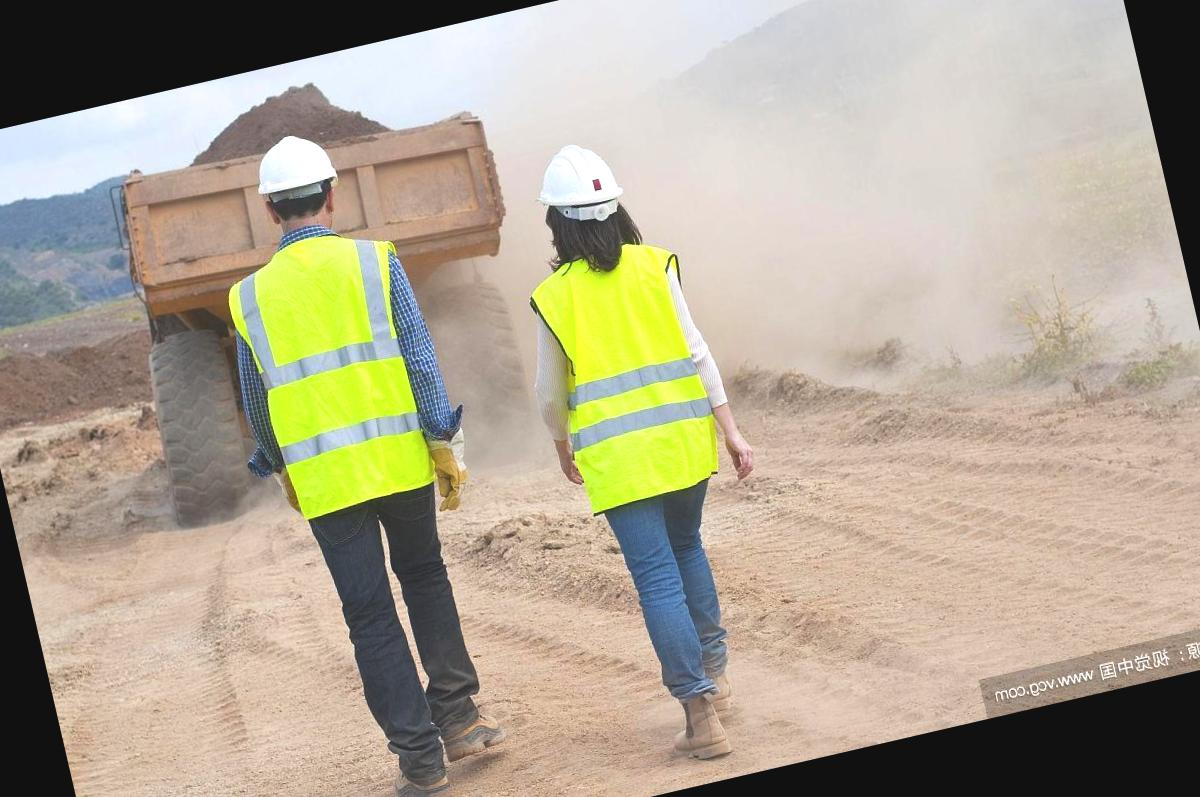helmet: (523, 124, 633, 225), (236, 118, 346, 206)
person: (177, 104, 546, 797), (480, 116, 817, 779)
